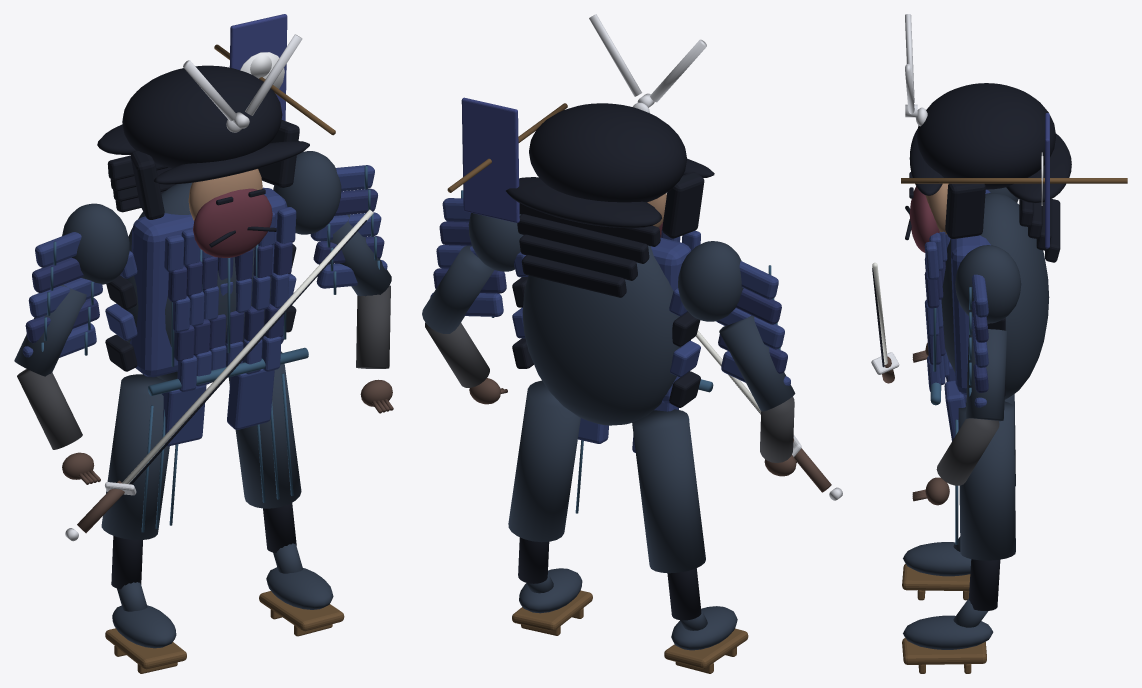
Rendered from uesugi-05.glb.
The picture shows the model from 3 angles, left to right: view 1: azimuth 30°, elevation 25°; view 2: azimuth 150°, elevation 25°; view 3: azimuth 270°, elevation 25°; orthographic projection. The views are drawn at different scales.
Parts seen in each view (by area): view 1: kabuto_helmet_bowl, left_hakama_outer_fold, do_cuirass_core, right_hakama_outer_fold, mempo_cheek_mask, left_rounded_shoulder_undercloth, right_rounded_shoulder_undercloth, left_forearm_kote, helmet_front_brim, right_forearm_kote, left_upper_arm_cloth, banner_cloth (+49 smaller); view 2: cloth_torso_underlayer, kabuto_helmet_bowl, left_hakama_outer_fold, right_hakama_outer_fold, banner_cloth, left_rounded_shoulder_undercloth, helmet_rear_flare, left_upper_arm_cloth, right_upper_arm_cloth, shikoro_neck_guard_1, shikoro_neck_guard_2, right_rounded_shoulder_undercloth (+24 smaller); view 3: kabuto_helmet_bowl, cloth_torso_underlayer, right_hakama_outer_fold, right_rounded_shoulder_undercloth, right_upper_arm_cloth, right_forearm_kote, right_tabi_sock, do_cuirass_core, right_fukigaeshi_flare, left_tabi_sock, helmet_rear_flare, right_geta_sole (+18 smaller).
Boxes of the visible parts, left/top/right/bottom form: kabuto_helmet_bowl: left=122, top=65, right=282, bottom=168; left_hakama_outer_fold: left=101, top=374, right=169, bottom=539; do_cuirass_core: left=130, top=187, right=287, bottom=377; right_hakama_outer_fold: left=228, top=351, right=301, bottom=508; mempo_cheek_mask: left=193, top=188, right=272, bottom=257; left_rounded_shoulder_undercloth: left=62, top=203, right=129, bottom=284; right_rounded_shoulder_undercloth: left=273, top=151, right=341, bottom=234; left_forearm_kote: left=17, top=369, right=82, bottom=449; helmet_front_brim: left=154, top=141, right=309, bottom=184; right_forearm_kote: left=356, top=285, right=390, bottom=368; left_upper_arm_cloth: left=14, top=284, right=86, bottom=376; banner_cloth: left=229, top=14, right=287, bottom=120; cloth_torso_underlayer: left=522, top=245, right=681, bottom=425; kabuto_helmet_bowl: left=529, top=103, right=686, bottom=202; left_hakama_outer_fold: left=632, top=409, right=705, bottom=573; right_hakama_outer_fold: left=508, top=380, right=580, bottom=542; banner_cloth: left=461, top=97, right=519, bottom=222; left_rounded_shoulder_undercloth: left=678, top=241, right=743, bottom=321; helmet_rear_flare: left=506, top=177, right=661, bottom=227; left_upper_arm_cloth: left=719, top=315, right=795, bottom=411; right_upper_arm_cloth: left=422, top=245, right=494, bottom=333; shikoro_neck_guard_1: left=517, top=214, right=649, bottom=263; shikoro_neck_guard_2: left=519, top=234, right=637, bottom=280; right_rounded_shoulder_undercloth: left=468, top=213, right=523, bottom=271; kabuto_helmet_bowl: left=916, top=83, right=1055, bottom=189; cloth_torso_underlayer: left=941, top=193, right=1049, bottom=399; right_hakama_outer_fold: left=958, top=401, right=1015, bottom=560; right_rounded_shoulder_undercloth: left=955, top=245, right=1021, bottom=323; right_upper_arm_cloth: left=965, top=329, right=1007, bottom=421; right_forearm_kote: left=936, top=418, right=999, bottom=485; right_tabi_sock: left=903, top=615, right=993, bottom=649; do_cuirass_core: left=951, top=189, right=990, bottom=394; right_fukigaeshi_flare: left=945, top=183, right=985, bottom=238; left_tabi_sock: left=903, top=542, right=971, bottom=576; helmet_rear_flare: left=1006, top=133, right=1071, bottom=203; right_geta_sole: left=902, top=638, right=986, bottom=664.
Size of the model in its own units: 1.19 by 1.87 by 0.7352.
